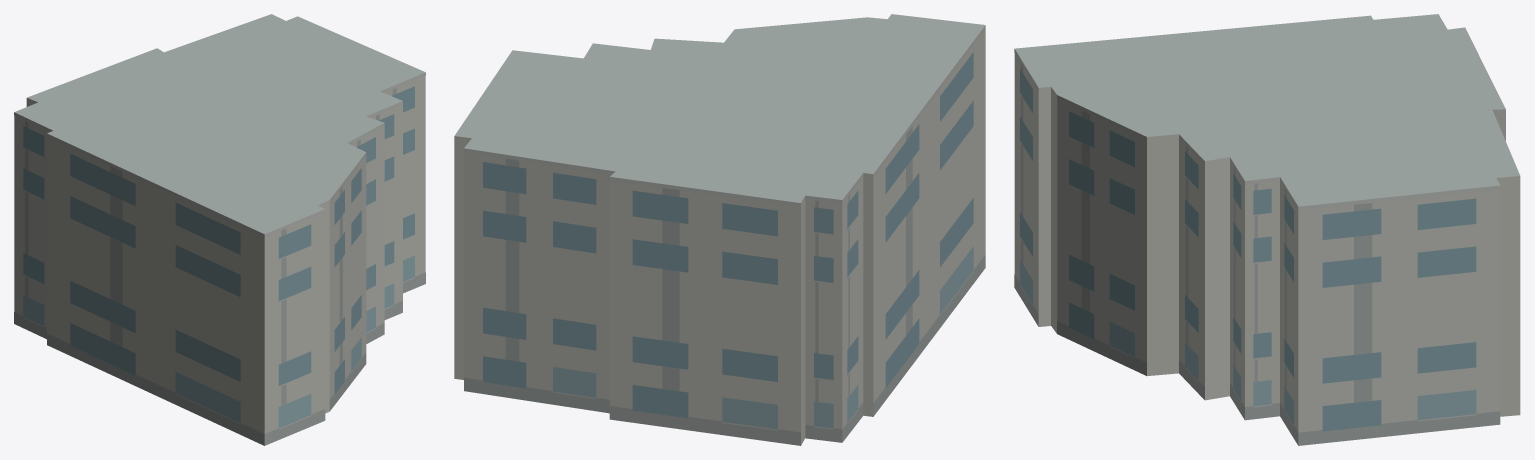
Rendered from survey-upis-33014005.glb.
3 renders of one model, left to right at view 1: azimuth 30°, elevation 25°; view 2: azimuth 150°, elevation 25°; view 3: azimuth 270°, elevation 25°, orthographic. The views are drawn at different scales.
Visible parts, largest first — view 1: survey-upis-33014005.tmp; view 2: survey-upis-33014005.tmp; view 3: survey-upis-33014005.tmp.
Boxes of the visible parts, left/top/right/bottom form: survey-upis-33014005.tmp: left=14, top=14, right=425, bottom=445; survey-upis-33014005.tmp: left=454, top=14, right=985, bottom=445; survey-upis-33014005.tmp: left=1014, top=14, right=1520, bottom=445.
Bounding box in the file's own units: 25.93 × 15 × 28.77.
